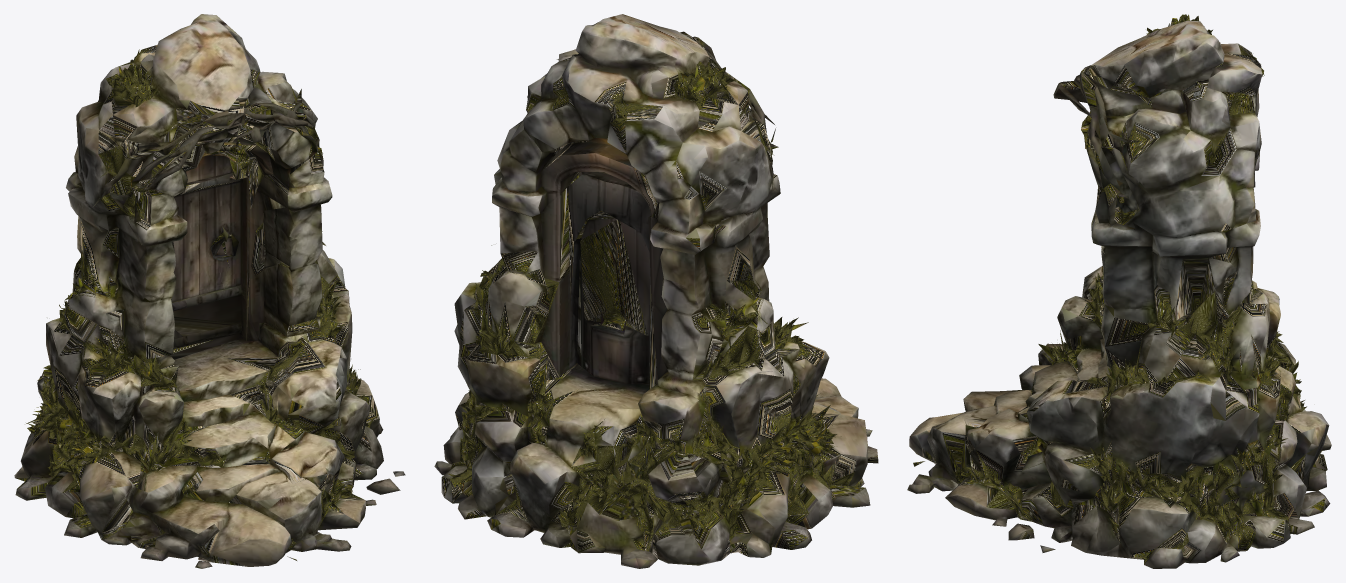
File: Stone_Portal.glb
The picture shows the model from 3 angles, left to right: view 1: azimuth 30°, elevation 25°; view 2: azimuth 150°, elevation 25°; view 3: azimuth 270°, elevation 25°; orthographic projection. The views are drawn at different scales.
Visible parts, largest first — view 1: Stone_Portal; view 2: Stone_Portal; view 3: Stone_Portal.
Part boxes in pixels (x1,y1,x2,y2): Stone_Portal: [14, 14, 405, 568]; Stone_Portal: [434, 14, 878, 568]; Stone_Portal: [907, 14, 1331, 568].
Bounding box in the file's own units: 1.68 × 2 × 1.69.
Materials: 1 (1 with a texture image).
